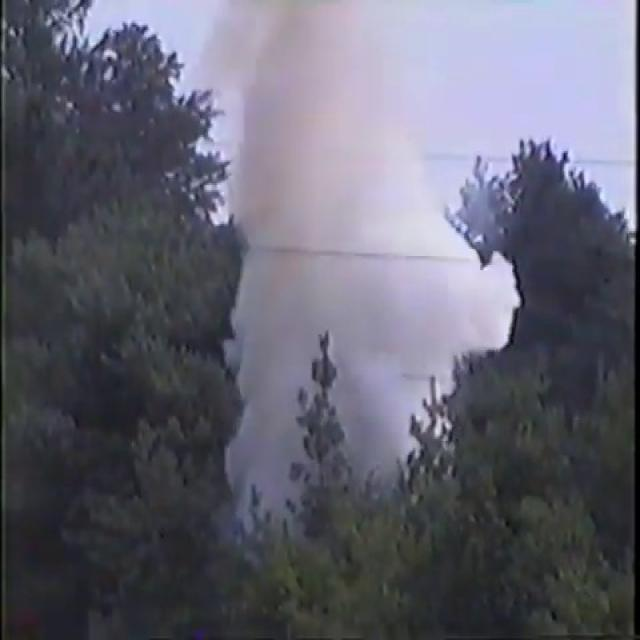Smoke: (201, 0, 484, 521)
